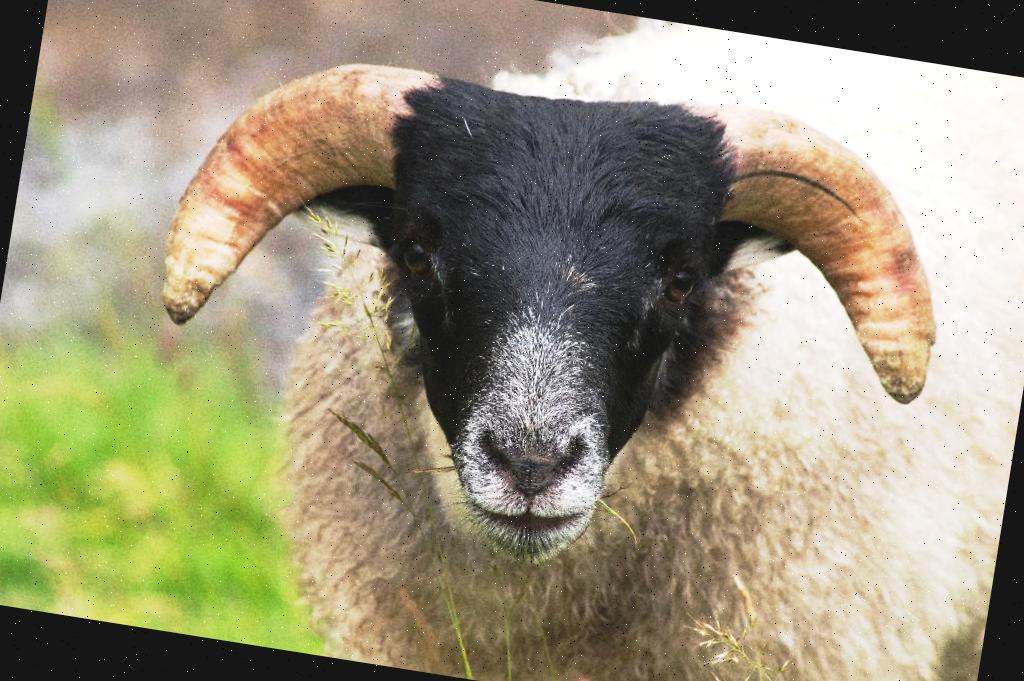Sheep: (106, 0, 1024, 681)
